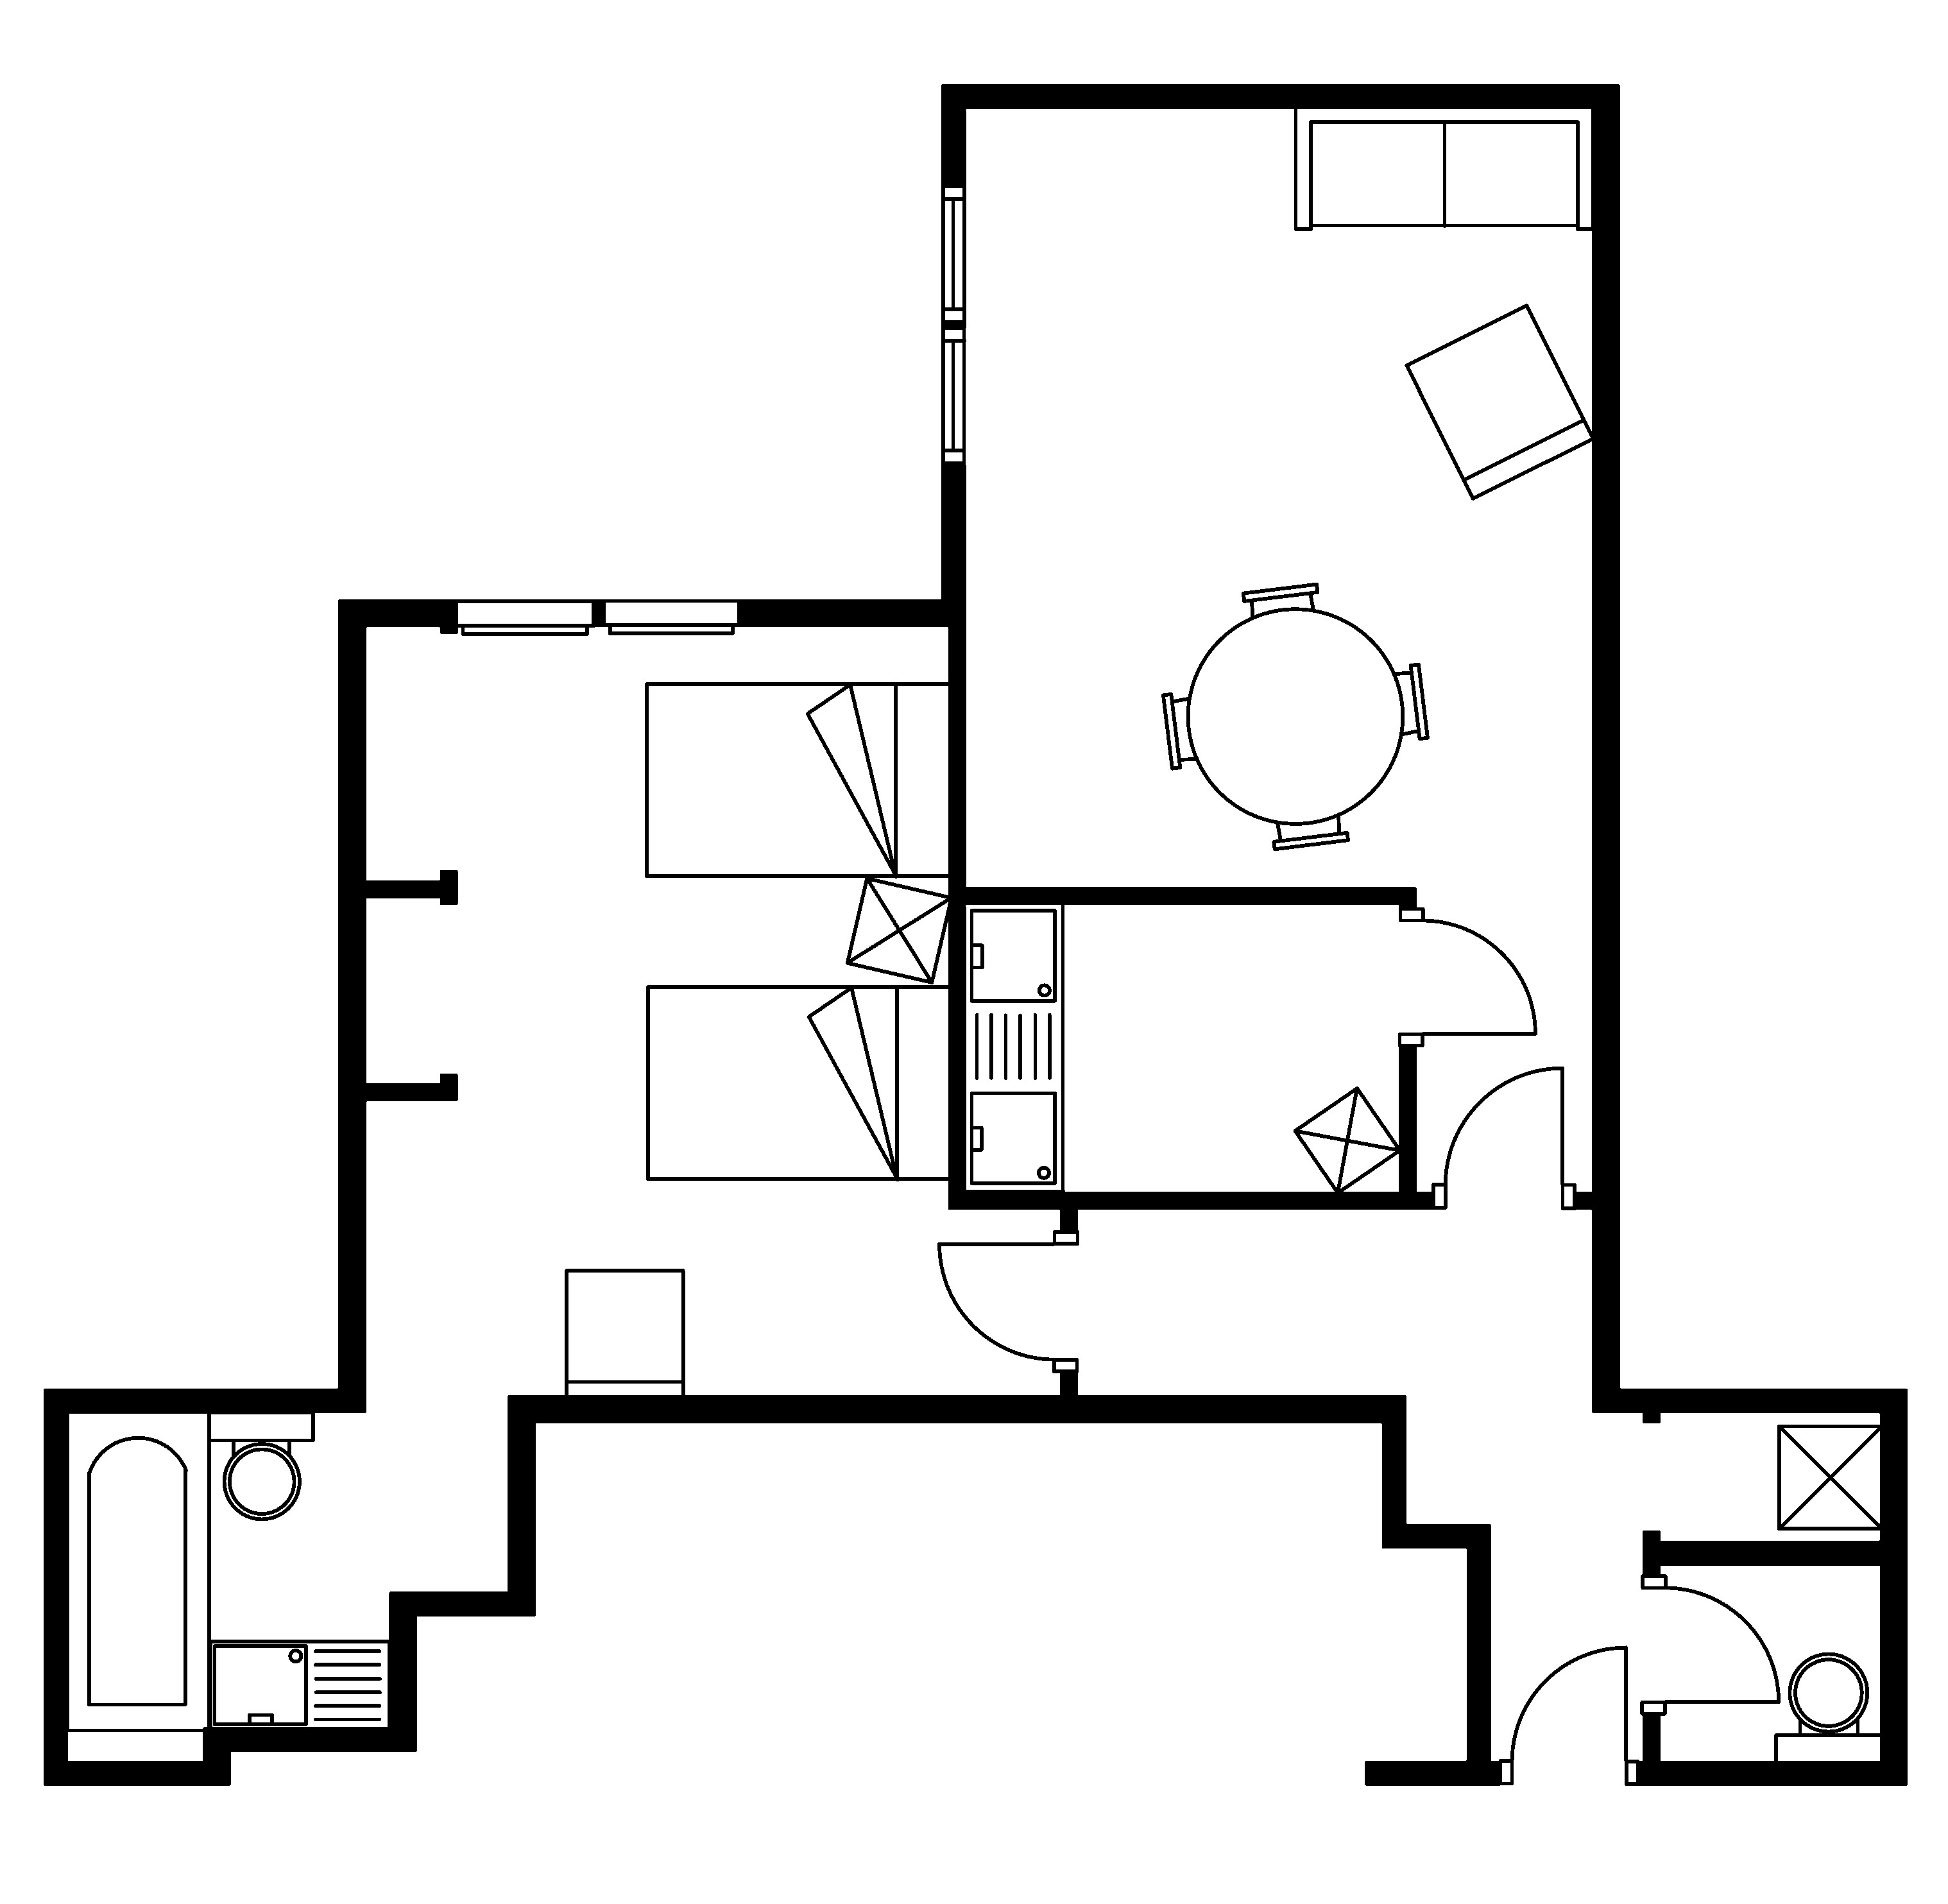bed: (644, 680, 952, 879), (645, 983, 954, 1182)
coffee_table: (1292, 1086, 1402, 1194), (844, 875, 952, 985), (1775, 1423, 1883, 1531)
large_sink: (1774, 1653, 1885, 1766), (206, 1411, 316, 1520)
large_sofa: (1292, 105, 1596, 230)
round_table: (1160, 581, 1430, 851)
sink: (208, 1639, 391, 1731)
small_sofa: (1404, 303, 1596, 500), (563, 1268, 685, 1402)
tub: (65, 1409, 211, 1733)
twin_sink: (961, 900, 1066, 1194)
